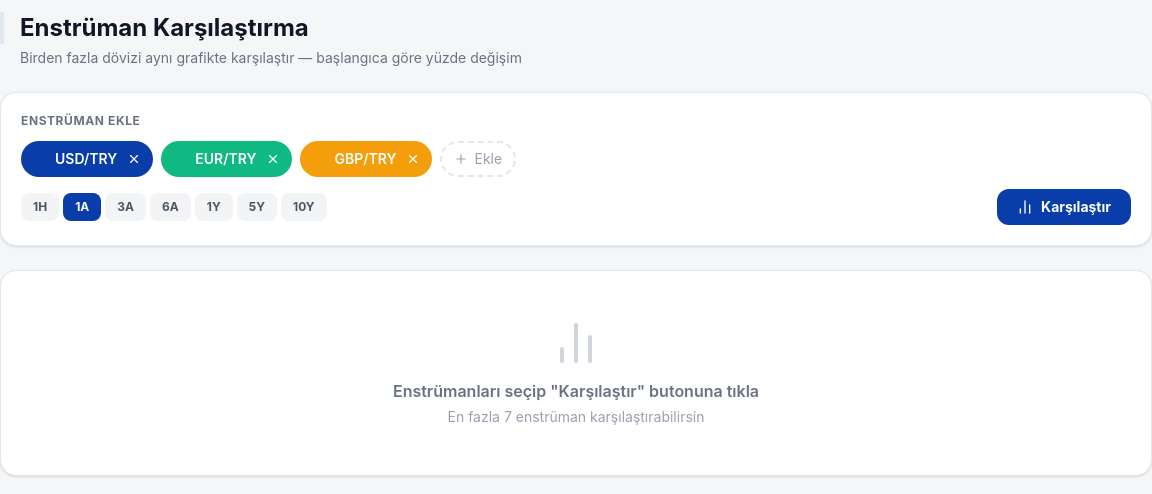
ComparePage (FX enstrüman karşılaştırma) — jsdom + testing-library › çipteki kaldır (X) butonuna basınca enstrüman listeden çıkar
Note: GBP/TRY çipini ve onun kaldır butonunu bul
Click the button without text next to "GBP/TRY". click: (414, 159)
box: [406,152,420,166]
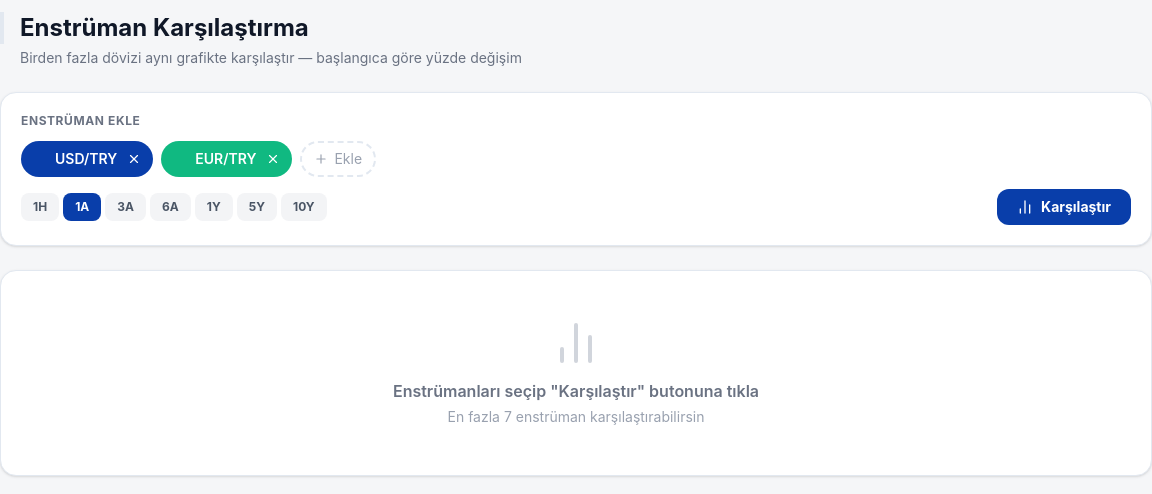
Expected: the text "USD/TRY" is shown, [21,141,153,177]
Now the text "GBP/TRY" is gone
